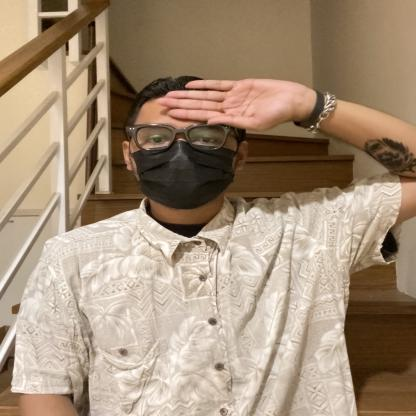Sick: (58, 52, 372, 182)
